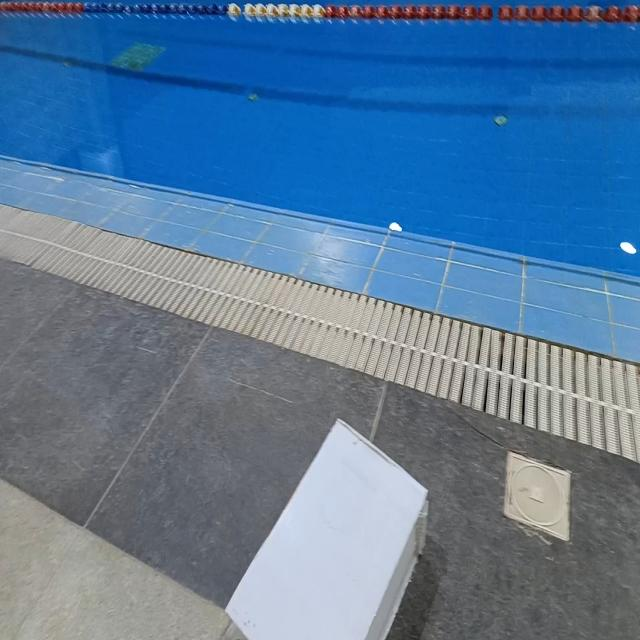Cuboid: (224, 416, 429, 638)
